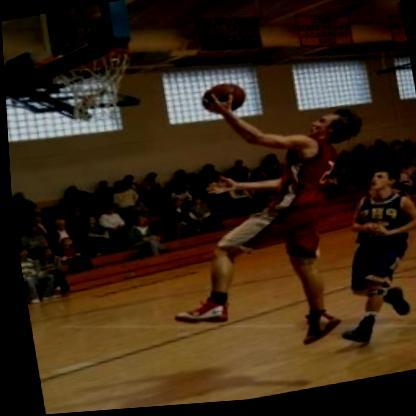basketball: (201, 83, 248, 123)
